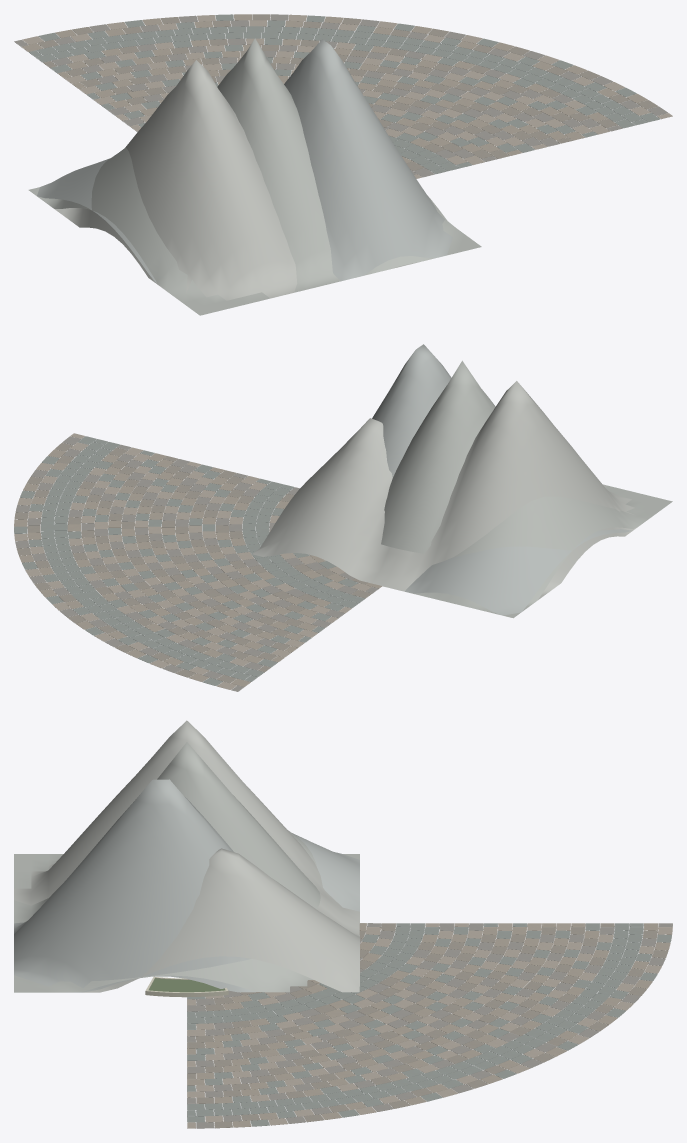
Rendered from lab-art.fbx.
The picture shows the model from 3 angles, top to bottom: view 1: azimuth 30°, elevation 25°; view 2: azimuth 150°, elevation 25°; view 3: azimuth 270°, elevation 25°; orthographic projection. The views are drawn at different scales.
Visible parts, largest first — view 1: PavingQuarter, Mountain2, Mountain3, Mountain1; view 2: PavingQuarter, Mountain2, Mountain1, Mountain3; view 3: PavingQuarter, Mountain3, Mountain2, Mountain1, CrescentSoil.
Part boxes in pixels (x1,y1,x2,y2): PavingQuarter: (14, 14, 672, 178); Mountain2: (54, 60, 419, 300); Mountain3: (37, 39, 452, 283); Mountain1: (28, 38, 481, 315); PavingQuarter: (14, 433, 382, 691); Mountain2: (252, 381, 638, 599); Mountain1: (280, 360, 672, 618); Mountain3: (372, 344, 632, 615); PavingQuarter: (187, 923, 672, 1128); Mountain3: (14, 779, 359, 992); Mountain2: (14, 720, 359, 992); Mountain1: (14, 742, 359, 992); CrescentSoil: (149, 978, 224, 992).
Size of the model in its own units: 35694 by 11000 by 36194.
1 material, 1 textured.
